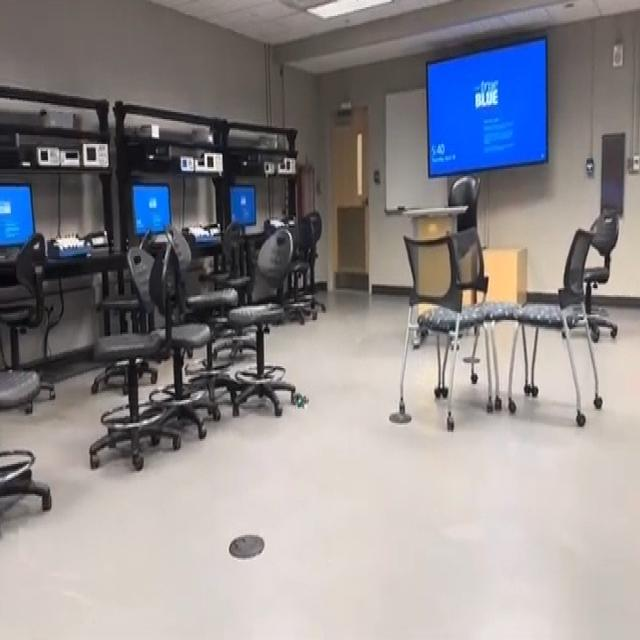drone: (284, 377, 318, 420)
